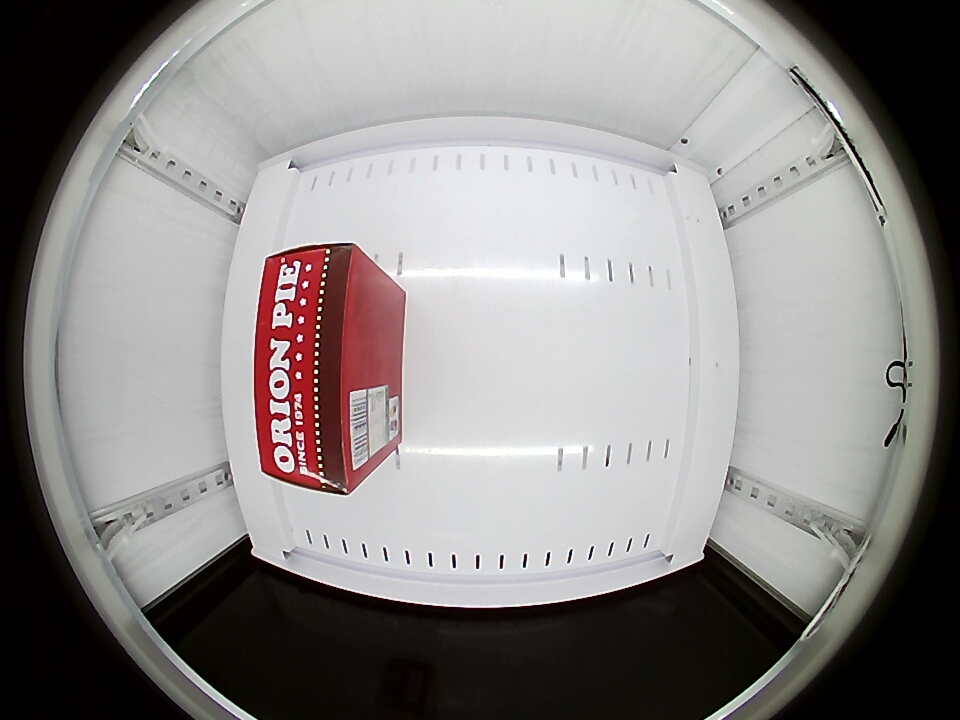haoliyou: (254, 242, 389, 495)
